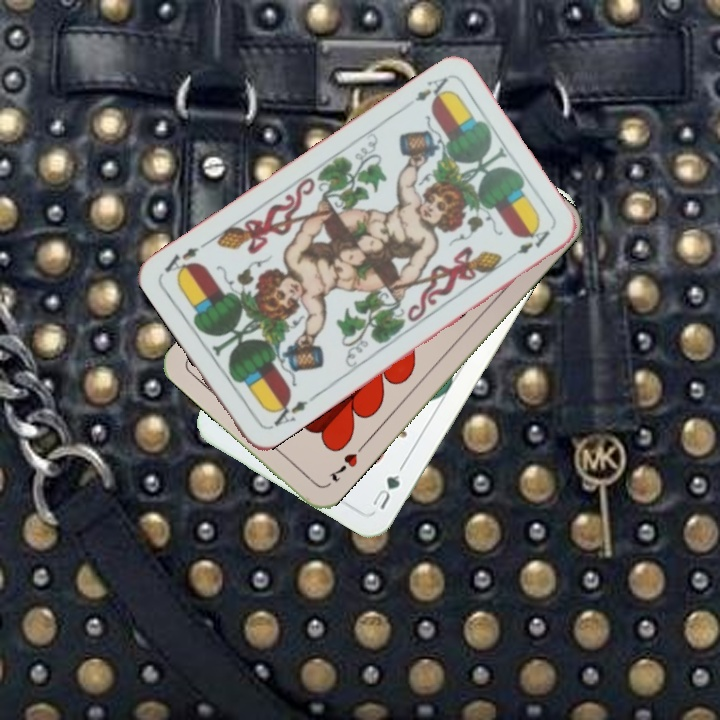EA: (264, 392, 317, 432), (411, 73, 453, 107)
GU: (368, 470, 403, 512)
H7: (324, 448, 361, 485)
